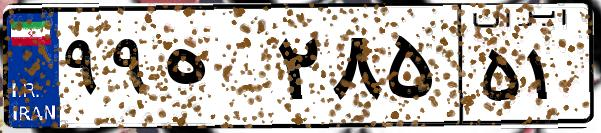1: (525, 38, 570, 115)
2: (270, 28, 330, 110)
5: (385, 28, 445, 110), (475, 38, 525, 113)
8: (330, 28, 385, 110)
9: (57, 26, 110, 100), (110, 28, 158, 98)
ه: (158, 20, 270, 120)
